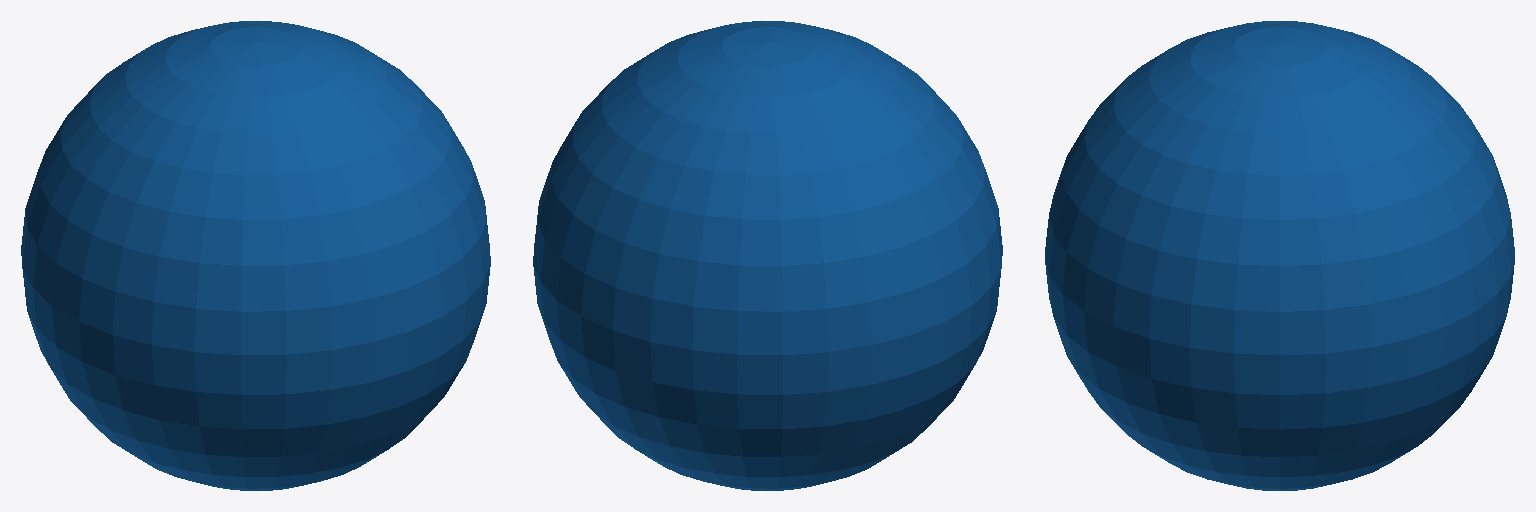
File: skydome.obj
3 renders of one model, left to right at view 1: azimuth 30°, elevation 25°; view 2: azimuth 150°, elevation 25°; view 3: azimuth 270°, elevation 25°, orthographic.
Parts seen in each view (by area): view 1: Sphere; view 2: Sphere; view 3: Sphere.
Part boxes in pixels (bbox=[...]): Sphere: bbox=[21, 21, 490, 490]; Sphere: bbox=[533, 21, 1002, 490]; Sphere: bbox=[1045, 21, 1514, 490].
Bounding box in the file's own units: 2000 × 2000 × 2000.